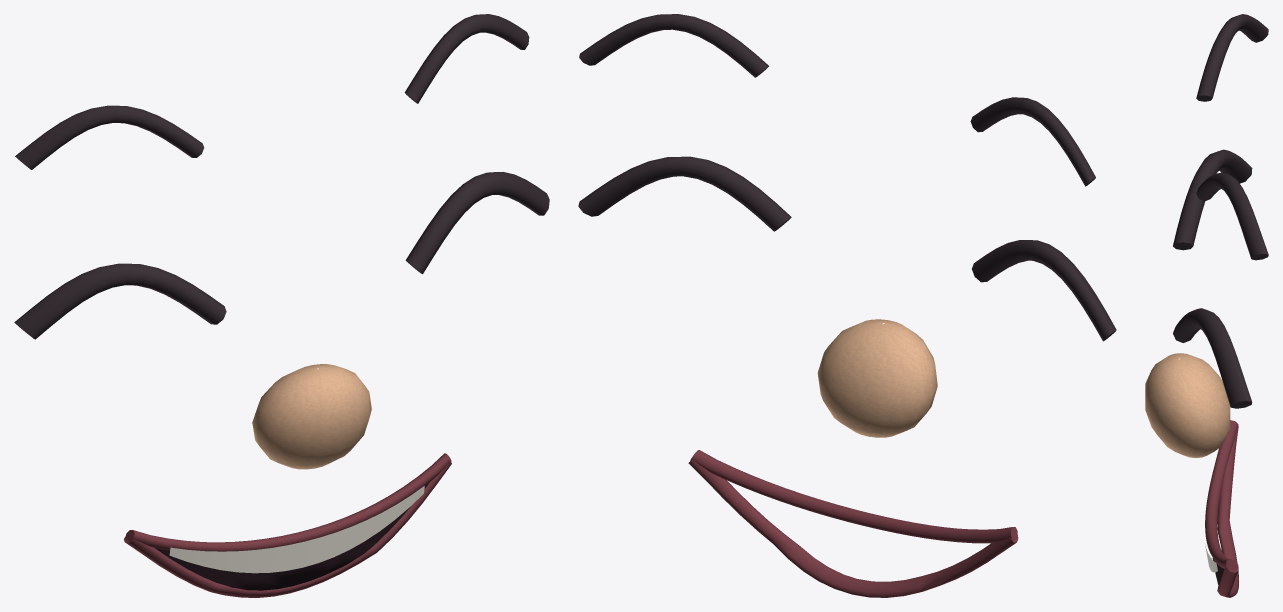
Rendered from face_bright.gltf.
The picture shows the model from 3 angles, left to right: view 1: azimuth 30°, elevation 25°; view 2: azimuth 150°, elevation 25°; view 3: azimuth 270°, elevation 25°; orthographic projection. The views are drawn at different scales.
Visible parts, largest first — view 1: Bright Grin; view 2: Bright Grin; view 3: Bright Grin.
Part boxes in pixels (box(x1,y1,x2,y2)): Bright Grin: box(14, 14, 549, 597); Bright Grin: box(578, 14, 1116, 597); Bright Grin: box(1145, 14, 1268, 597).
Size of the model in its own units: 0.2707 by 0.2592 by 0.0599.
5 materials, 5 textured.
